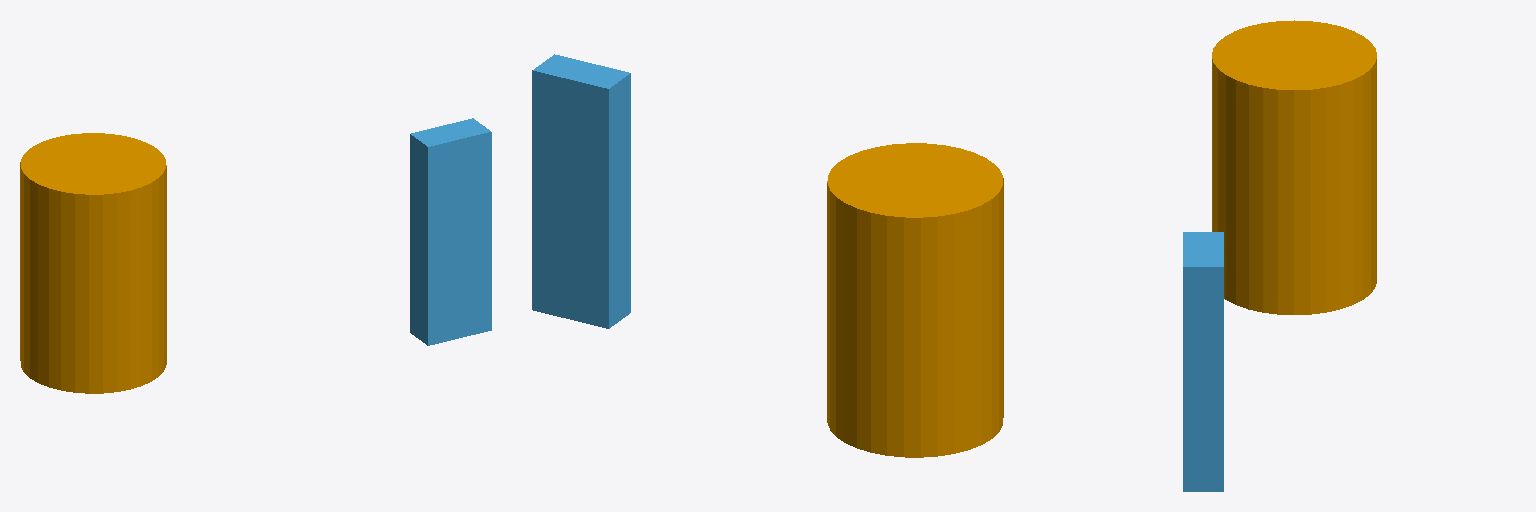
URDF robot description (origins):
<?xml version="1.0"?>
<robot name="origins">
    <link name="base_link">
       <visual>
          <geometry>
           <cylinder length="0.6" radius="0.2"/>
          </geometry>
       </visual>
    </link>
 
    <link name="right_leg">
       <visual>
       <geometry>
          <box size="0.6 0.1 0.2"/>
         </geometry>
         <origin rpy="0 1.57075 0" xyz="1 0 -0.3"/>
       </visual>
    </link>
  
    <joint name="base_to_right_leg" type="fixed">
       <parent link="base_link"/>
       <child link="right_leg"/>
       <origin xyz="0 -0.22 0.25"/>
    </joint>
   
</robot>

--- Render facts (derived) ---
The picture shows the robot from 3 angles, left to right: view 1: azimuth 30°, elevation 25°; view 2: azimuth 150°, elevation 25°; view 3: azimuth 270°, elevation 25°; orthographic projection.
Model origins with 2 links and 1 joints (1 fixed), rooted at base_link, posed all joints at 0.
Links seen in each view (by area): view 1: base_link, right_leg; view 2: base_link, right_leg; view 3: base_link, right_leg.
Link boxes in pixels (<box>): base_link: <box>20,133,166,393</box>; right_leg: <box>410,118,491,345</box>; base_link: <box>827,143,1003,457</box>; right_leg: <box>532,54,630,328</box>; base_link: <box>1212,20,1376,314</box>; right_leg: <box>1183,232,1223,491</box>.
Size in the robot's own frame: 1.3 by 0.47 by 0.65 metres.
Geometry: primitives only (box / cylinder / sphere), no mesh files.